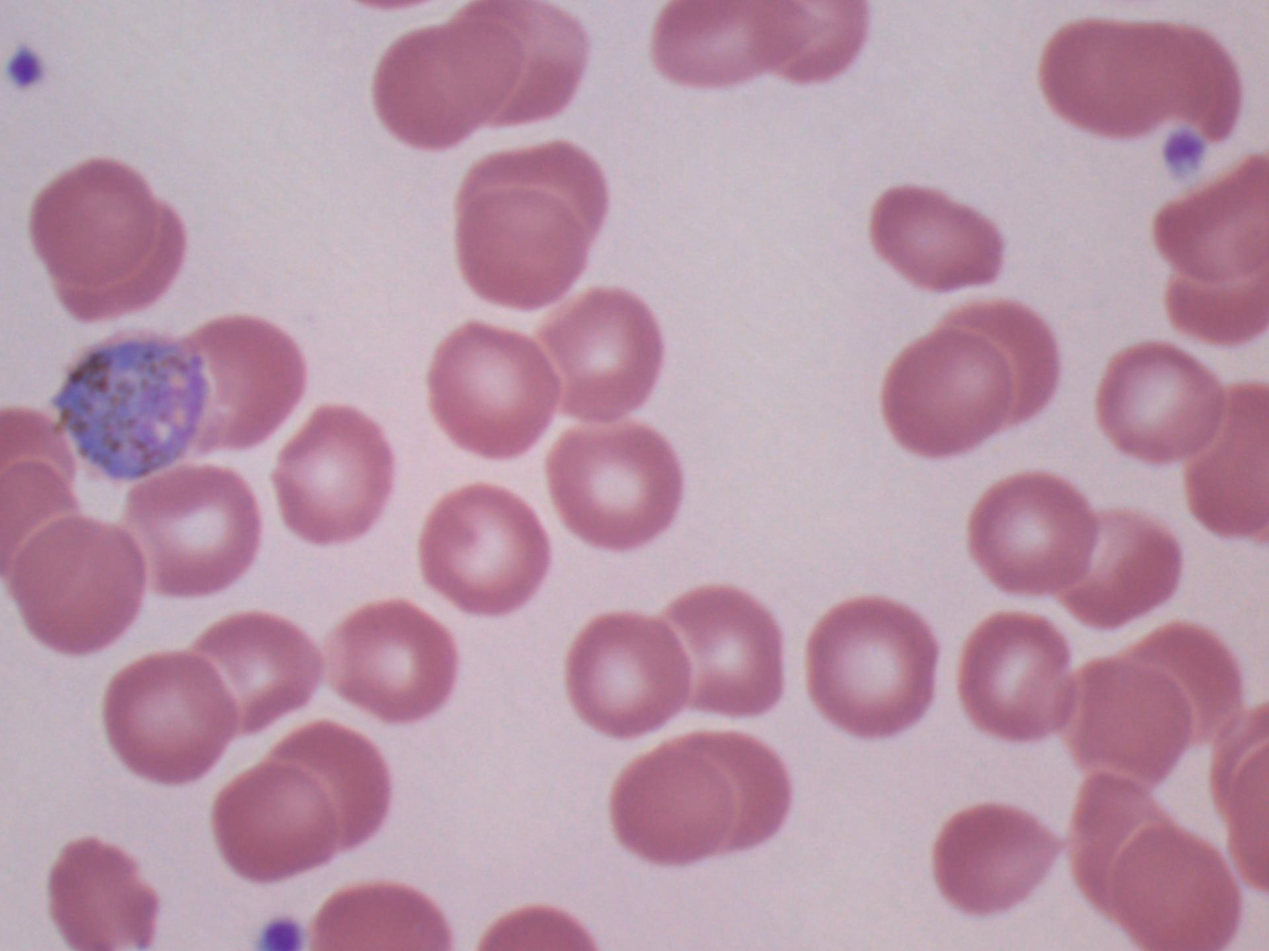Infected: (53, 331, 222, 483)
Uninfected: (372, 22, 527, 152), (3, 516, 139, 657), (425, 324, 562, 463), (806, 593, 937, 735), (1099, 826, 1245, 951), (106, 655, 242, 789), (273, 407, 397, 546), (416, 486, 549, 613), (453, 185, 590, 308), (26, 162, 160, 287), (568, 608, 695, 739), (187, 608, 325, 728), (549, 427, 681, 550), (973, 471, 1098, 600), (132, 468, 254, 599), (453, 0, 584, 122), (663, 585, 783, 716), (268, 724, 394, 847), (1155, 156, 1269, 291), (884, 334, 1014, 451), (1041, 15, 1166, 136), (1059, 663, 1184, 783), (611, 752, 742, 866), (193, 319, 307, 450), (332, 603, 455, 722), (960, 615, 1079, 738), (649, 0, 820, 85), (213, 765, 340, 879), (940, 301, 1058, 423), (939, 802, 1065, 916), (1099, 341, 1216, 461), (1062, 508, 1176, 631), (876, 185, 1001, 292), (679, 731, 793, 846), (1147, 625, 1244, 753), (45, 835, 152, 951), (1072, 785, 1170, 911), (750, 0, 870, 80), (311, 886, 444, 951), (1168, 268, 1269, 350)
